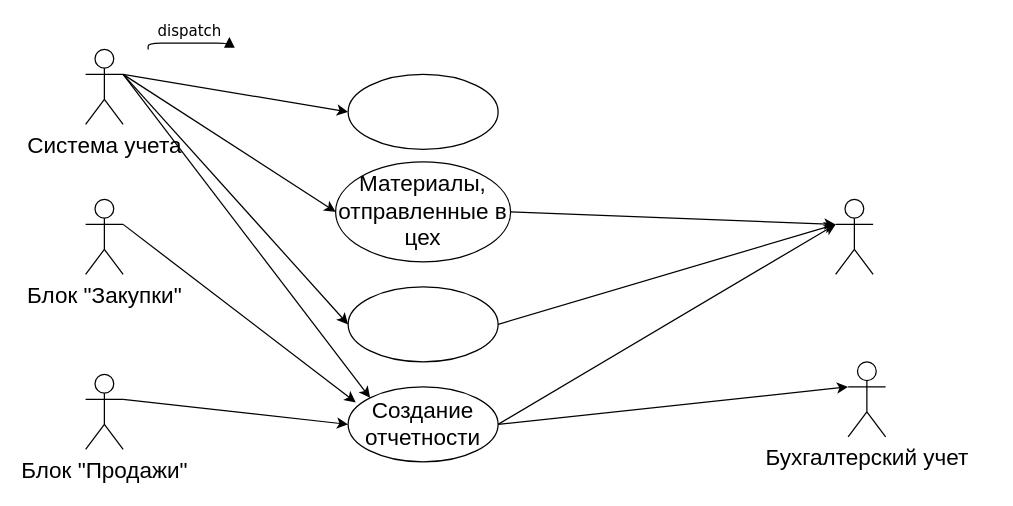
Image size: 1013x506. Some labels were removed from this diagram. Each missing label, with the centre of its shape:
"Войти в систему" goes at (422,111).
"Руководство предприятия" goes at (853,236).
"Состав склада" goes at (422,324).
